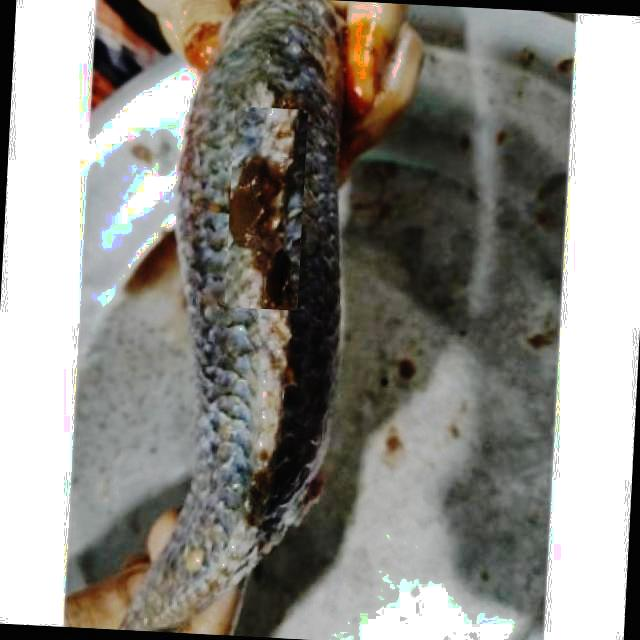Aeromonas Septicemia: (120, 2, 348, 633)
